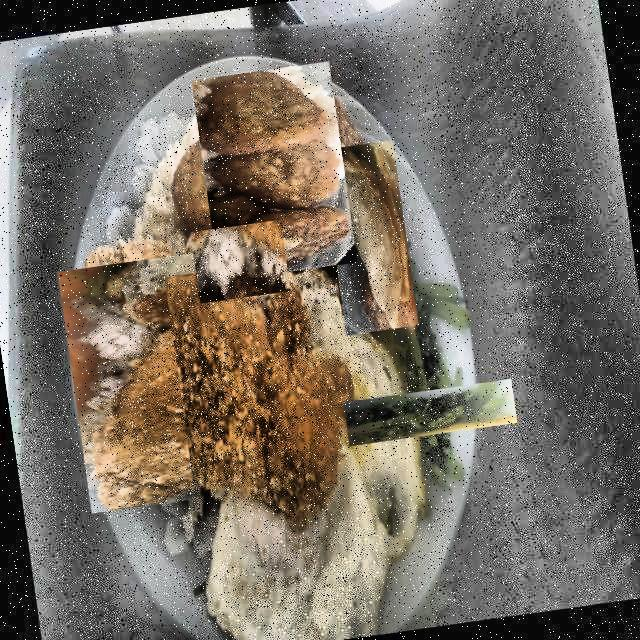Food: (164, 245, 445, 640), (70, 218, 379, 526), (177, 74, 371, 268), (320, 139, 420, 335), (371, 352, 492, 473), (190, 218, 292, 304)
